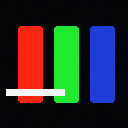3 line_h: (6, 89, 64, 95)
